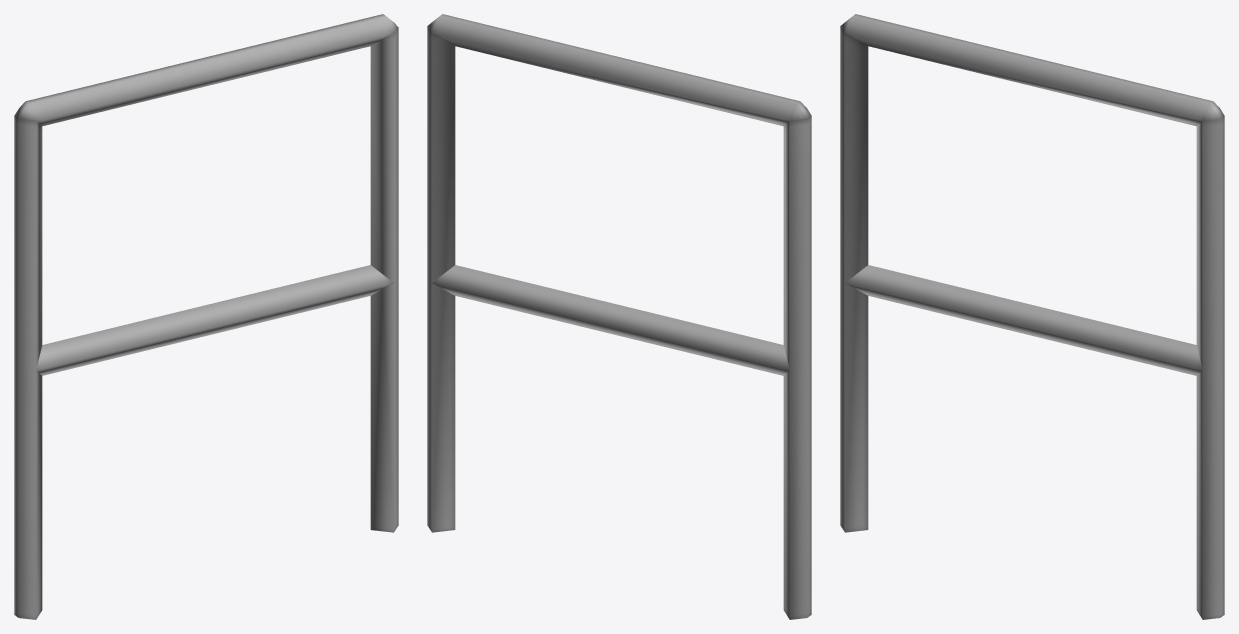
File: Rail1x1Bars.gltf
The picture shows the model from 3 angles, left to right: view 1: azimuth 30°, elevation 25°; view 2: azimuth 150°, elevation 25°; view 3: azimuth 330°, elevation 25°; orthographic projection.
Visible parts, largest first — view 1: Rail1x1BarsShape; view 2: Rail1x1BarsShape; view 3: Rail1x1BarsShape.
Boxes of the visible parts, left/top/right/bottom form: Rail1x1BarsShape: left=14, top=14, right=398, bottom=619; Rail1x1BarsShape: left=427, top=14, right=811, bottom=619; Rail1x1BarsShape: left=840, top=14, right=1224, bottom=619.
Size of the model in its own units: 0.7965 by 1.02 by 0.062.
1 material, 1 textured.
